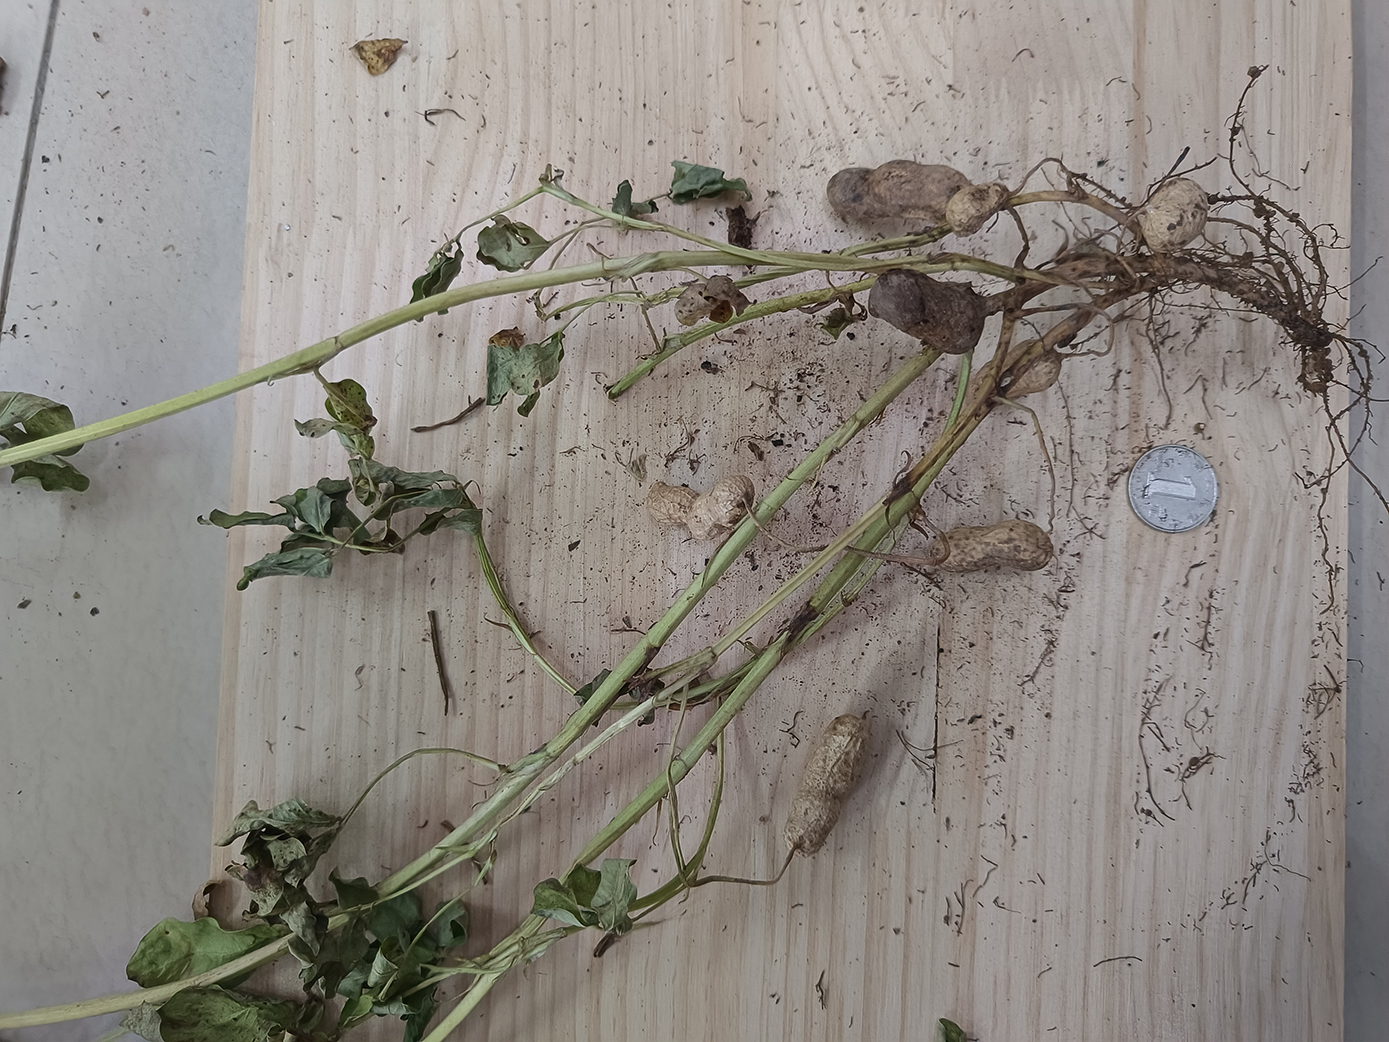h: (786, 713, 863, 860), (646, 479, 753, 537), (931, 520, 1053, 570), (1139, 177, 1209, 255), (970, 341, 1061, 400), (947, 181, 1011, 234)
l: (868, 269, 984, 354), (829, 160, 958, 219)
